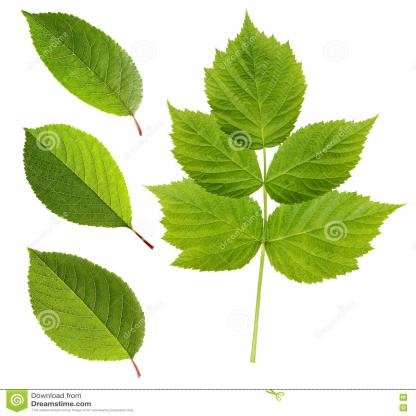raspberry leaf: (205, 8, 308, 152), (264, 187, 406, 285), (141, 183, 265, 272), (265, 114, 378, 206), (166, 103, 264, 198)
